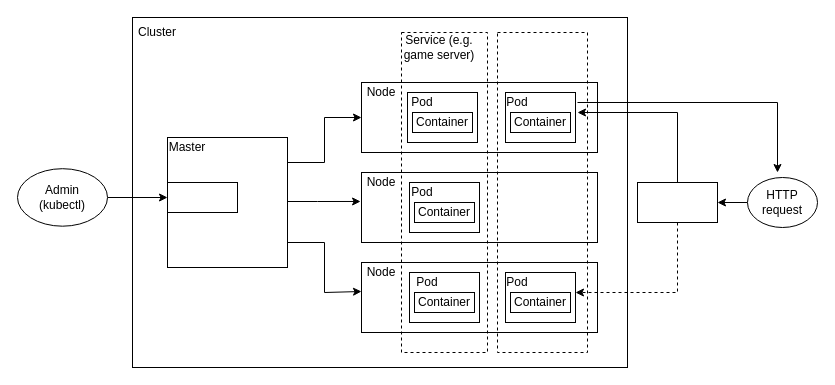
Image size: 835x385. Some labels were removed from this diagram. The shapes that lost their labels are listed below. From the top down, each one's centre as x and y in pixels, then its label:
At (202,197): "API server".
At (542,192): "Service (e.g. blog site)".
At (677,202): "Load balancer".
